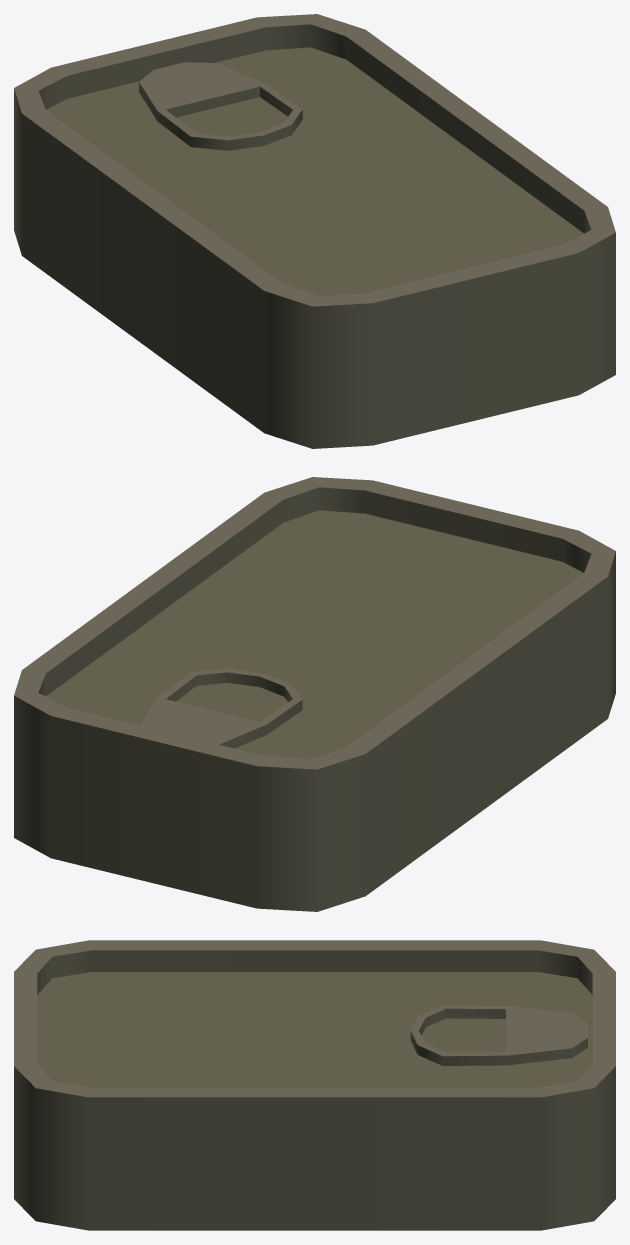
The model's file is consumables-cannedfood-canofsardines_v1.glb.
3 views of the same model, one above another, from view 1: azimuth 30°, elevation 25°; view 2: azimuth 150°, elevation 25°; view 3: azimuth 270°, elevation 25° (orthographic). The views are drawn at different scales.
Visible parts, largest first — view 1: CanOfSardines.001; view 2: CanOfSardines.001; view 3: CanOfSardines.001.
Part boxes in pixels (left/top/right/bottom): CanOfSardines.001: left=14, top=14, right=615, bottom=448; CanOfSardines.001: left=14, top=477, right=615, bottom=911; CanOfSardines.001: left=14, top=940, right=615, bottom=1230.
Size of the model in its own units: 0.1305 by 0.0517 by 0.2117.
